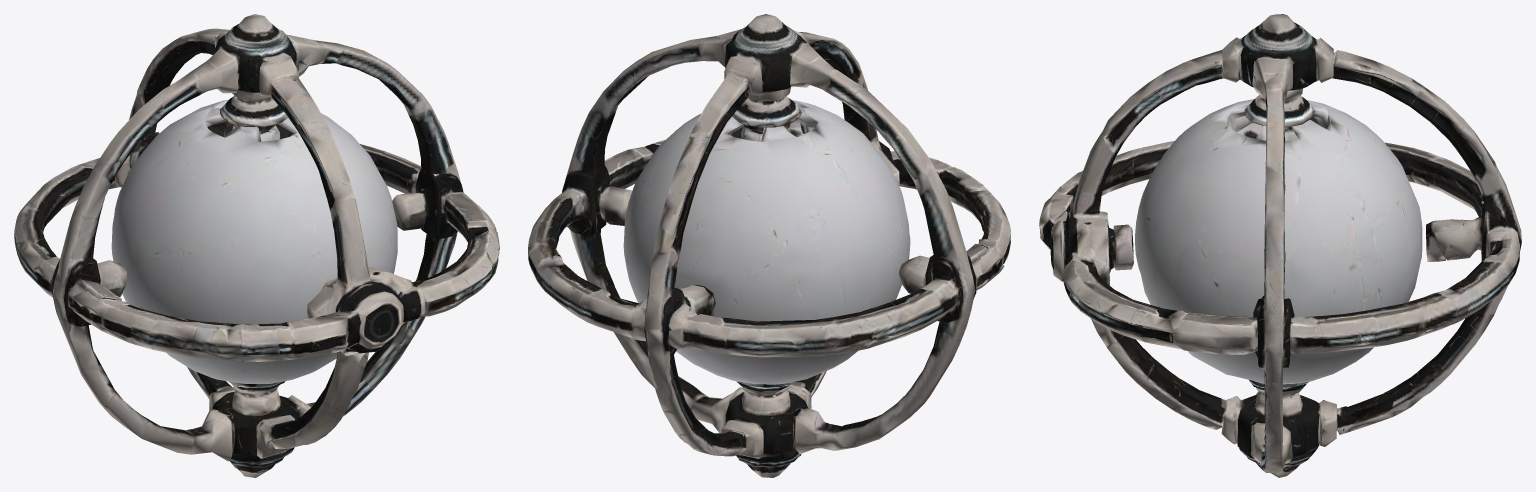
File: embedding_sphere.glb
3 renders of one model, left to right at view 1: azimuth 30°, elevation 25°; view 2: azimuth 150°, elevation 25°; view 3: azimuth 270°, elevation 25°, orthographic.
Size of the model in its own units: 1.77 by 1.9 by 1.82.
1 material, 1 textured.
